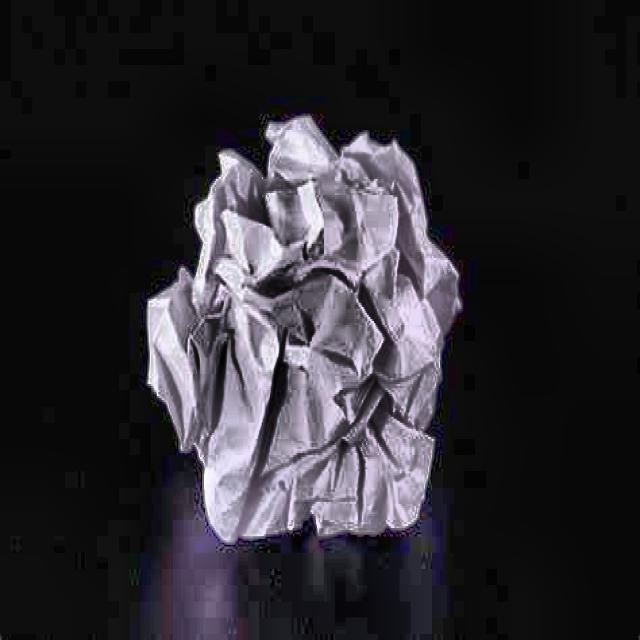Paper: (140, 103, 465, 543)
